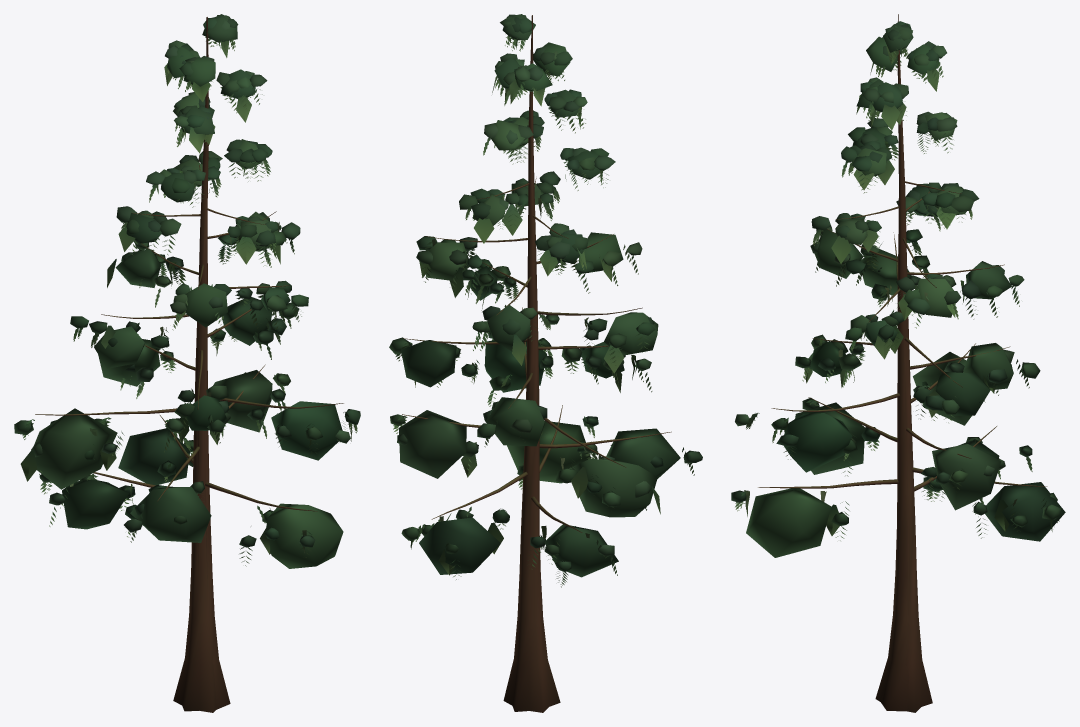
File: red-cedar.glb
The picture shows the model from 3 angles, left to right: view 1: azimuth 30°, elevation 25°; view 2: azimuth 150°, elevation 25°; view 3: azimuth 270°, elevation 25°; orthographic projection.
Visible parts, largest first — view 1: red-cedar-lo, red-cedar; view 2: red-cedar-lo, red-cedar; view 3: red-cedar-lo, red-cedar.
Part boxes in pixels (x1,y1,x2,y2): red-cedar-lo: (20, 14, 343, 709); red-cedar: (14, 15, 360, 712); red-cedar-lo: (398, 14, 680, 660); red-cedar: (389, 14, 702, 712); red-cedar-lo: (746, 24, 1065, 711); red-cedar: (731, 14, 1061, 712).
Bounding box in the file's own units: 14.09 × 34.04 × 14.98.
